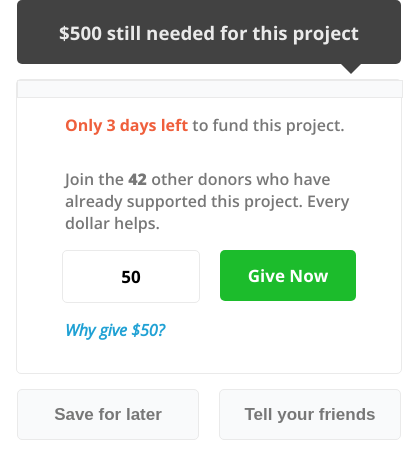
Test case: test events › donate button subtracts $50 twice from amount needed and increases donors by two
This screenshot has width=420, height=457.
What coordinates should you click on to do the following:
click the button "Give Now"
I would click on:
 (288, 276)
Its box is [220,250,356,301].
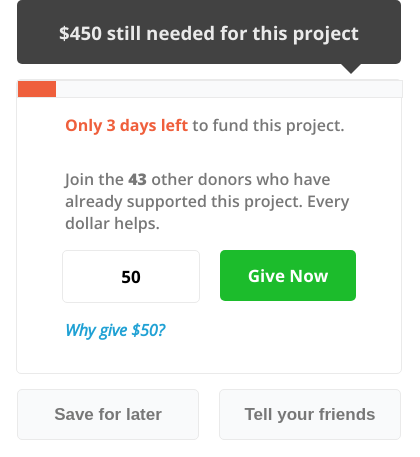
Check: the heading "$500 still needed for this project" reads "$450 still needed for this project", box [59,20,359,44]
Check: the text "42" reads "43", box [128,168,147,190]
What coordinates should you click on to do the following:
click the button "Give Now"
I would click on:
 (288, 276)
Its box is [220,250,356,301].
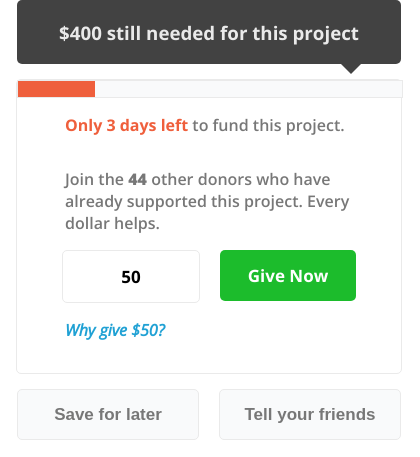
Check: the heading "$500 still needed for this project" reads "$400 still needed for this project", box [59,20,359,44]
Check: the text "42" reads "44", box [128,168,147,190]
